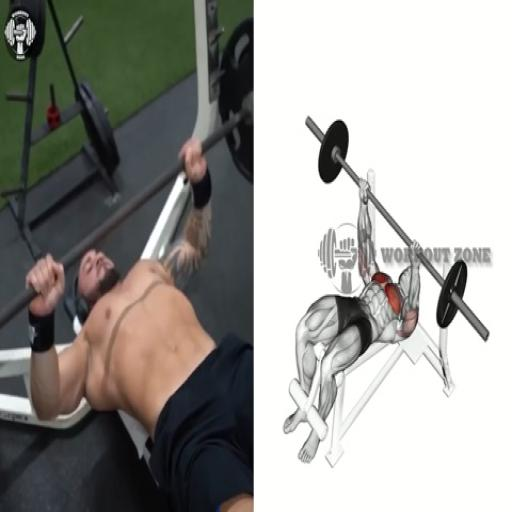exercise: (23, 135, 253, 511), (280, 174, 424, 466)
